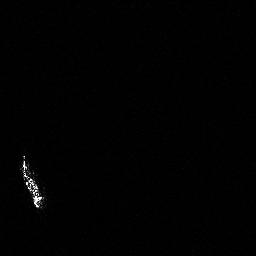ship: (16, 151, 50, 211)
